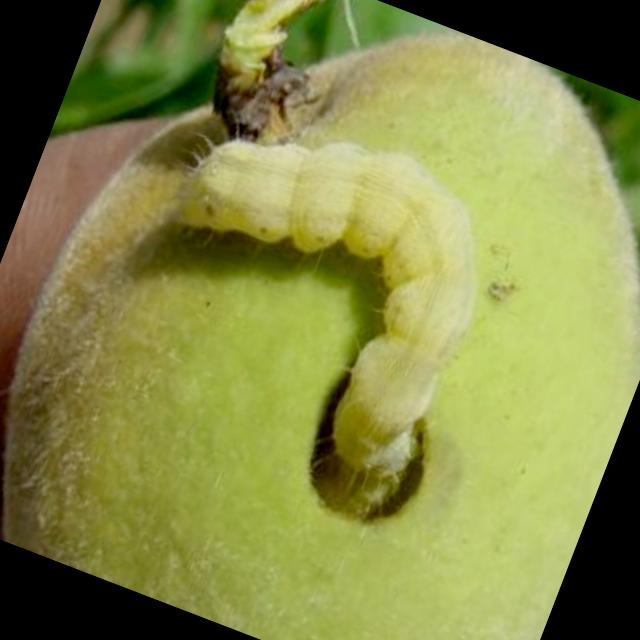Cotton bollworm: (66, 54, 568, 556)
